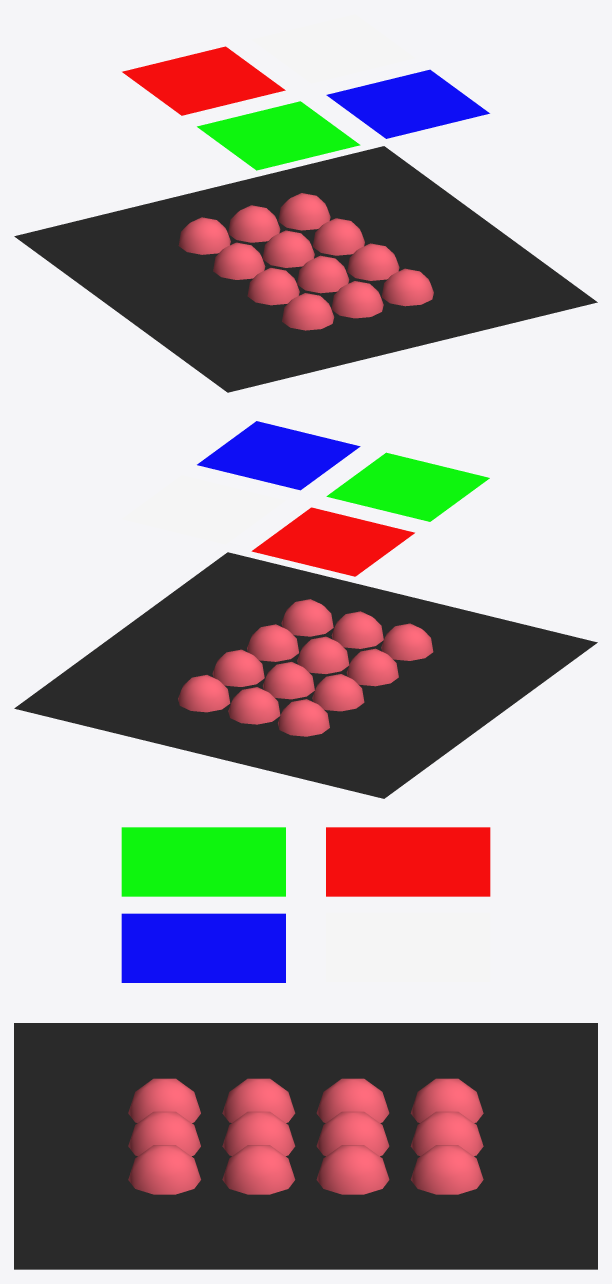
The model's file is rough-metallic.glb.
3 renders of one model, top to bottom at view 1: azimuth 30°, elevation 25°; view 2: azimuth 150°, elevation 25°; view 3: azimuth 270°, elevation 25°, orthographic. The views are drawn at different scales.
Visible parts, largest first — view 1: Plane, lightRed, lightBlue, light, lightGreen, sphere.001, sphere.003, sphere, sphere.007, sphere.013, sphere.005, sphere.015 (+5 smaller); view 2: Plane, light, lightRed, lightBlue, lightGreen, sphere.013, sphere.015, sphere.012, sphere.003, sphere.008, sphere.004, sphere.001 (+5 smaller); view 3: Plane, lightRed, lightGreen, light, lightBlue, sphere.007, sphere.015, sphere.003, sphere.011, sphere.009, sphere.001, sphere.005 (+5 smaller).
Part boxes in pixels (x1,y1,x2,y2): Plane: [14, 146, 597, 392]; lightRed: [122, 46, 285, 115]; lightBlue: [326, 69, 489, 138]; light: [251, 14, 414, 83]; lightGreen: [197, 101, 360, 170]; sphere.001: [331, 281, 383, 318]; sphere.003: [382, 268, 433, 306]; sphere: [282, 293, 334, 330]; sphere.007: [347, 243, 399, 280]; sphere.013: [228, 205, 280, 242]; sphere.005: [297, 255, 349, 293]; sphere.015: [278, 193, 330, 230]; Plane: [14, 552, 597, 798]; light: [122, 475, 285, 544]; lightRed: [251, 507, 414, 576]; lightBlue: [197, 421, 360, 490]; lightGreen: [326, 452, 489, 521]; sphere.013: [228, 687, 280, 724]; sphere.015: [178, 675, 230, 712]; sphere.012: [278, 699, 329, 736]; sphere.003: [281, 599, 333, 636]; sphere.008: [312, 674, 364, 711]; sphere.004: [346, 648, 398, 686]; sphere.001: [331, 611, 383, 648]; Plane: [14, 1023, 597, 1269]; lightRed: [326, 827, 490, 896]; lightGreen: [121, 827, 285, 896]; light: [326, 912, 490, 981]; lightBlue: [121, 913, 285, 982]; sphere.007: [222, 1145, 295, 1194]; sphere.015: [410, 1145, 483, 1194]; sphere.003: [128, 1145, 200, 1194]; sphere.011: [316, 1145, 389, 1194]; sphere.009: [316, 1111, 389, 1156]; sphere.001: [128, 1111, 200, 1156]; sphere.005: [222, 1111, 295, 1156].
Bounding box in the file's own units: 4 × 1.83 × 4.
